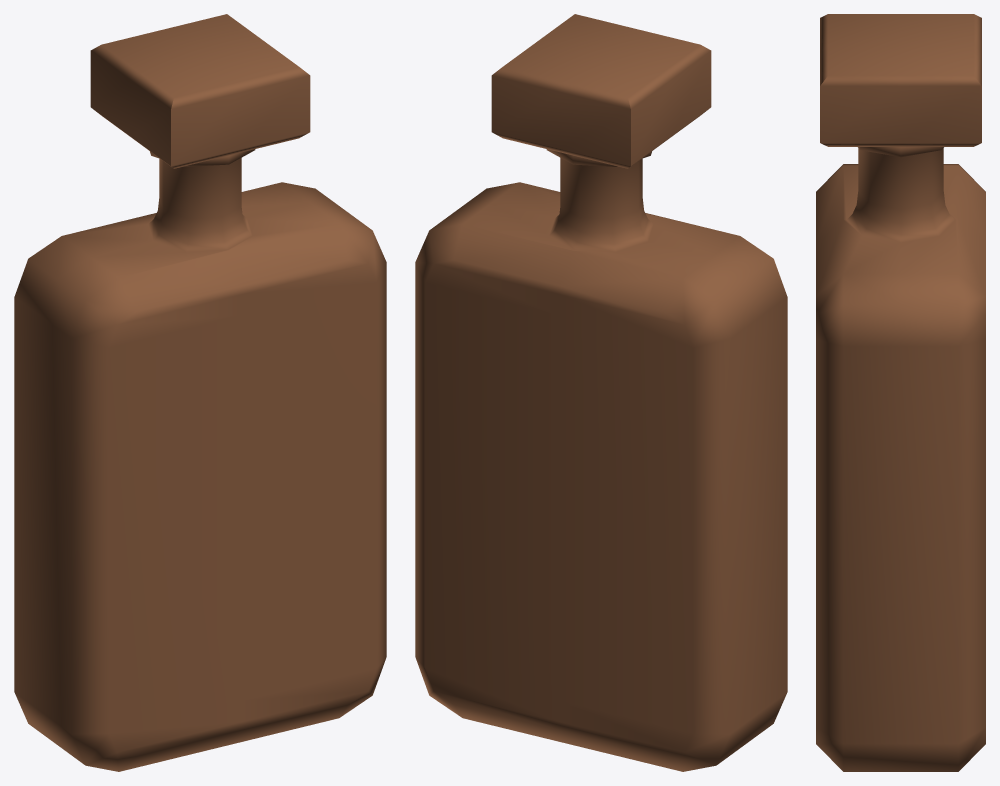
Rendered from square alcohol.fbx.
3 renders of one model, left to right at view 1: azimuth 30°, elevation 25°; view 2: azimuth 150°, elevation 25°; view 3: azimuth 270°, elevation 25°, orthographic.
Visible parts, largest first — view 1: pCube8; view 2: pCube8; view 3: pCube8.
Boxes of the visible parts, <box> form: pCube8: <box>14,14,386,771</box>; pCube8: <box>415,14,787,771</box>; pCube8: <box>816,14,985,771</box>.
Size of the model in its own units: 20.15 by 40.86 by 9.37.
